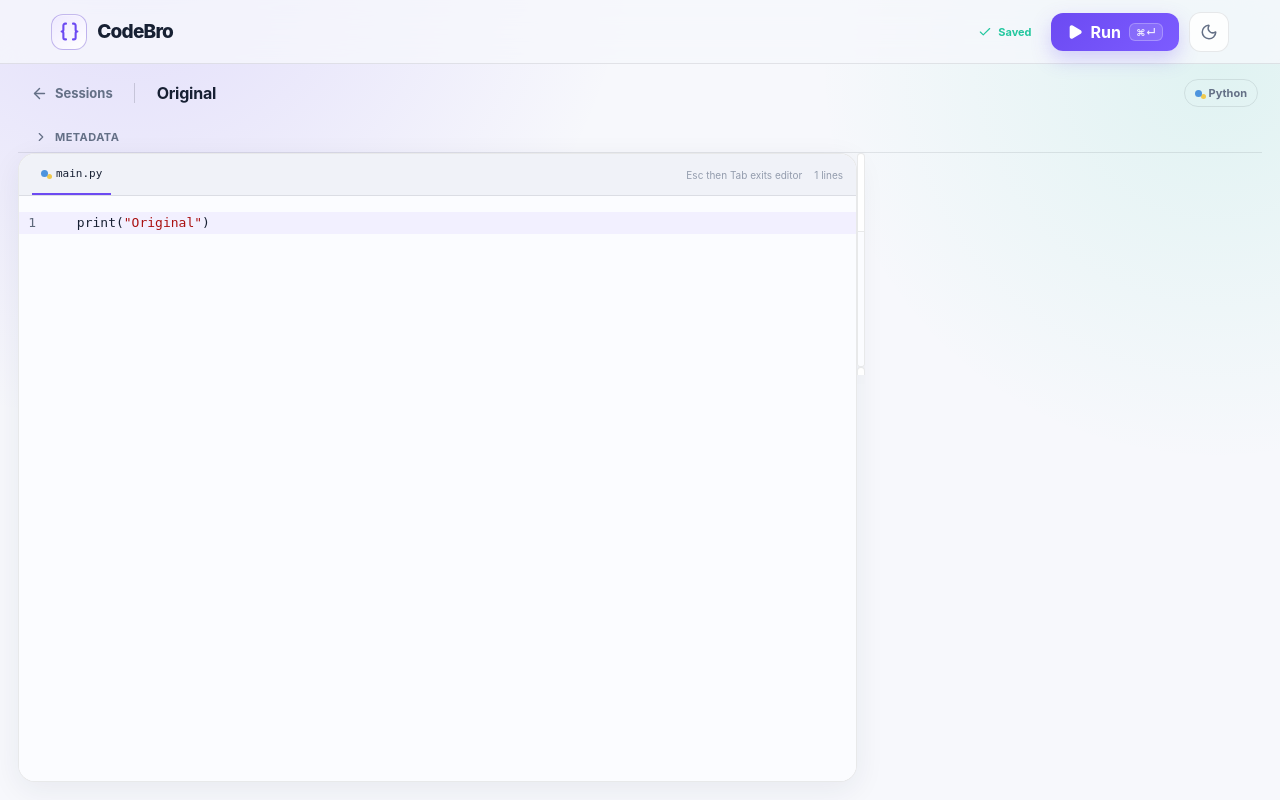
Test: Playground session loading › live-announces a failed save
Step 1. Type " changed" into the field named "Session name" → {"x": 327, "y": 93}, box x1=147 y1=75 x2=507 y2=111
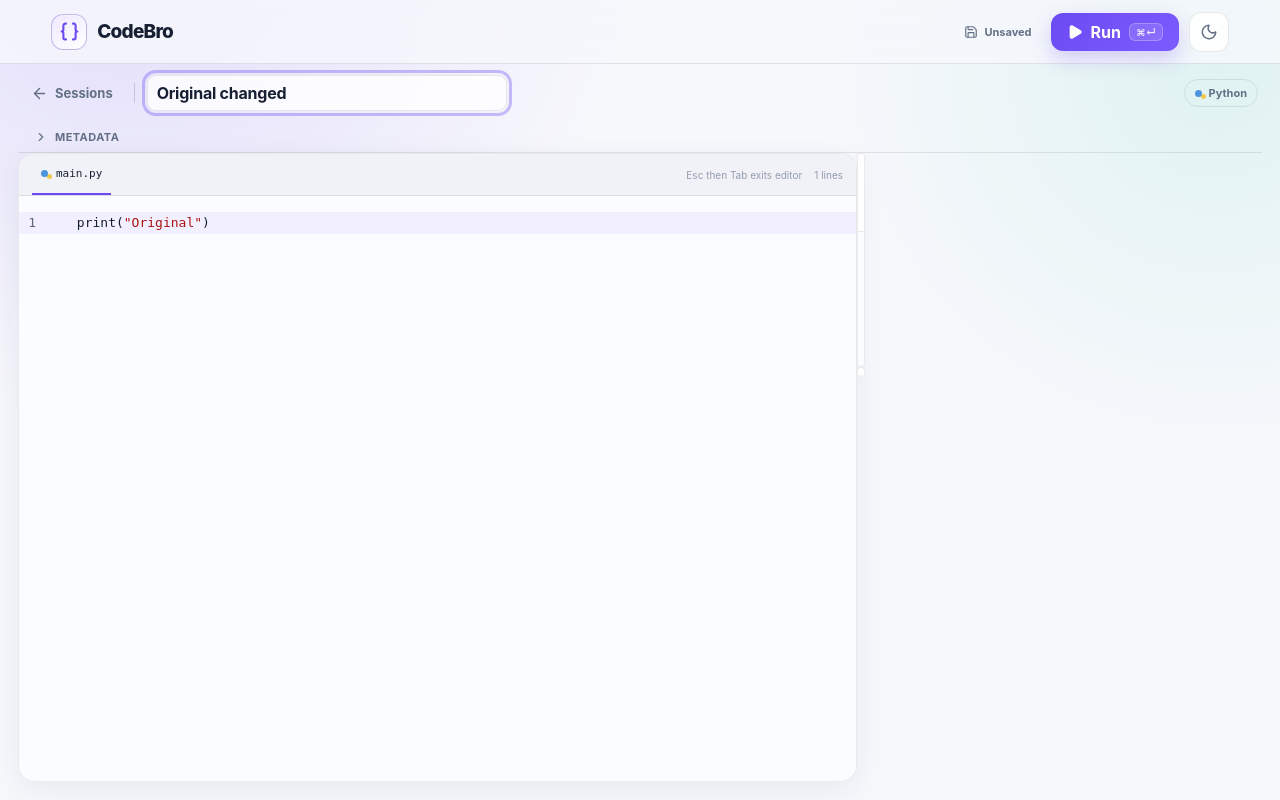
Step 2. Press s
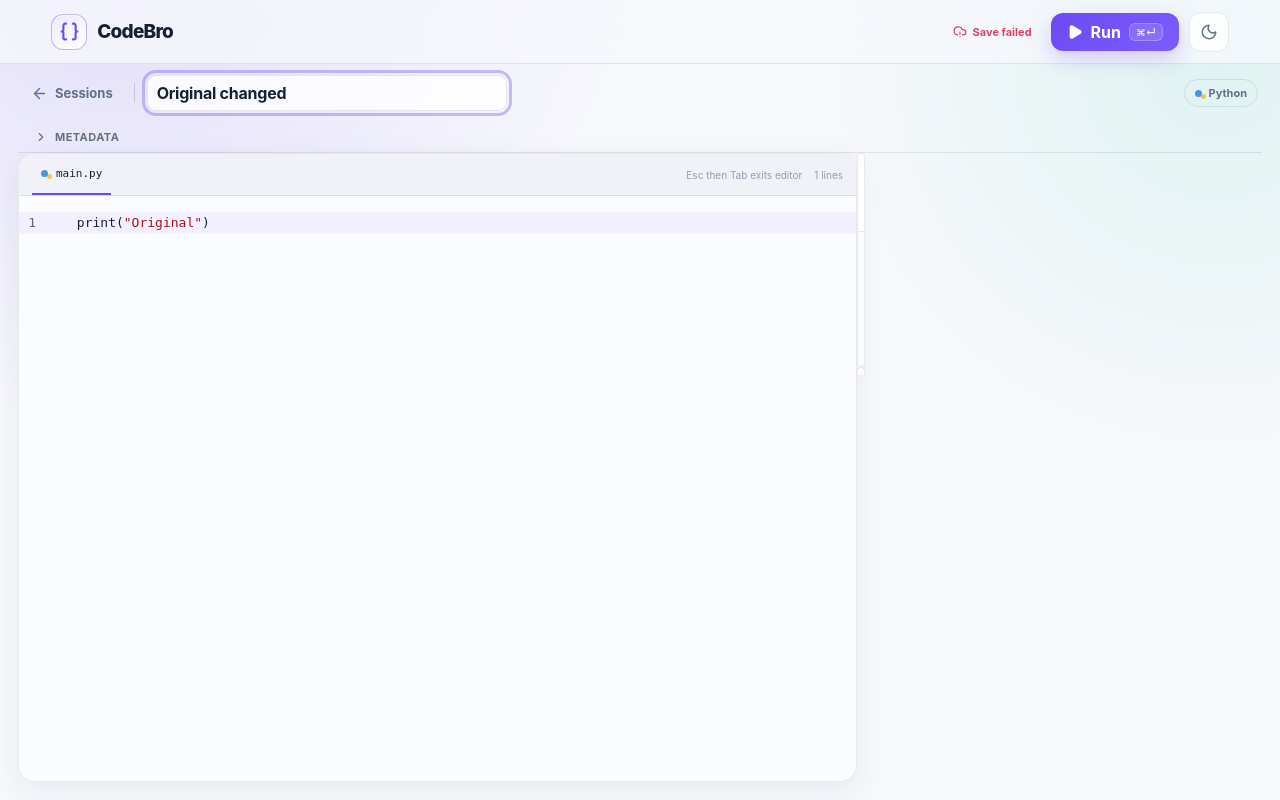
Check: the message reads "Save failed", box x1=973 y1=24 x2=1032 y2=38
